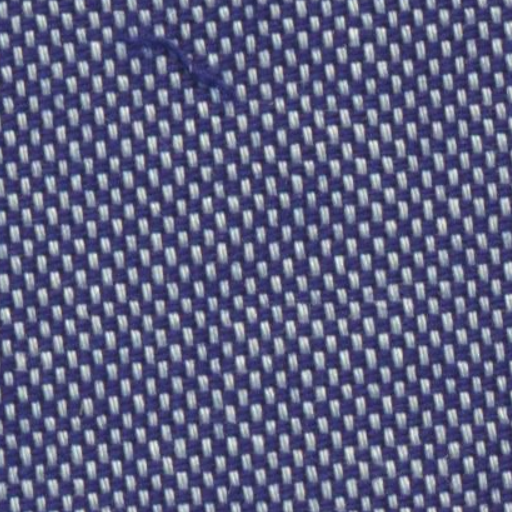DuanSha: (106, 10, 241, 102)
